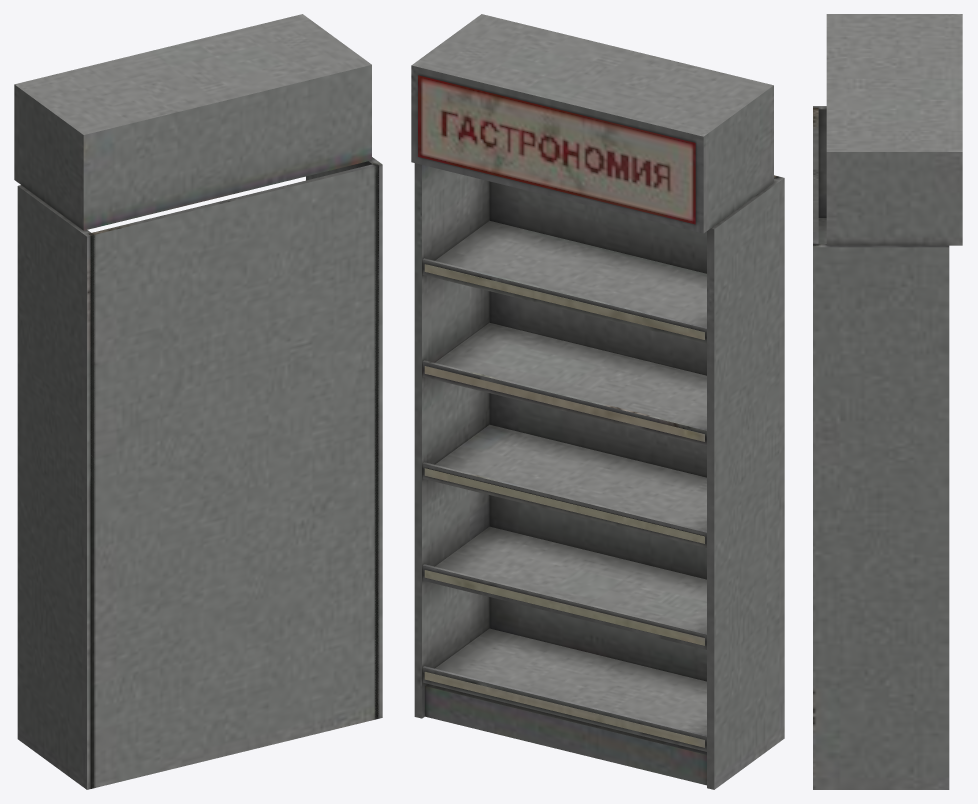
File: wall_rack_gastronomiya_lod1_web.glb
The picture shows the model from 3 angles, left to right: view 1: azimuth 30°, elevation 25°; view 2: azimuth 150°, elevation 25°; view 3: azimuth 270°, elevation 25°; orthographic projection. The views are drawn at different scales.
Parts seen in each view (by area): view 1: WallRackGastronomiya_Body; view 2: WallRackGastronomiya_Body; view 3: WallRackGastronomiya_Body.
Boxes of the visible parts, x1,y1,x2,y2 form: WallRackGastronomiya_Body: [14, 14, 382, 789]; WallRackGastronomiya_Body: [411, 14, 784, 789]; WallRackGastronomiya_Body: [813, 14, 962, 789].
Size of the model in its own units: 1.23 by 2.58 by 0.554.
Materials: 1 (1 with a texture image).
